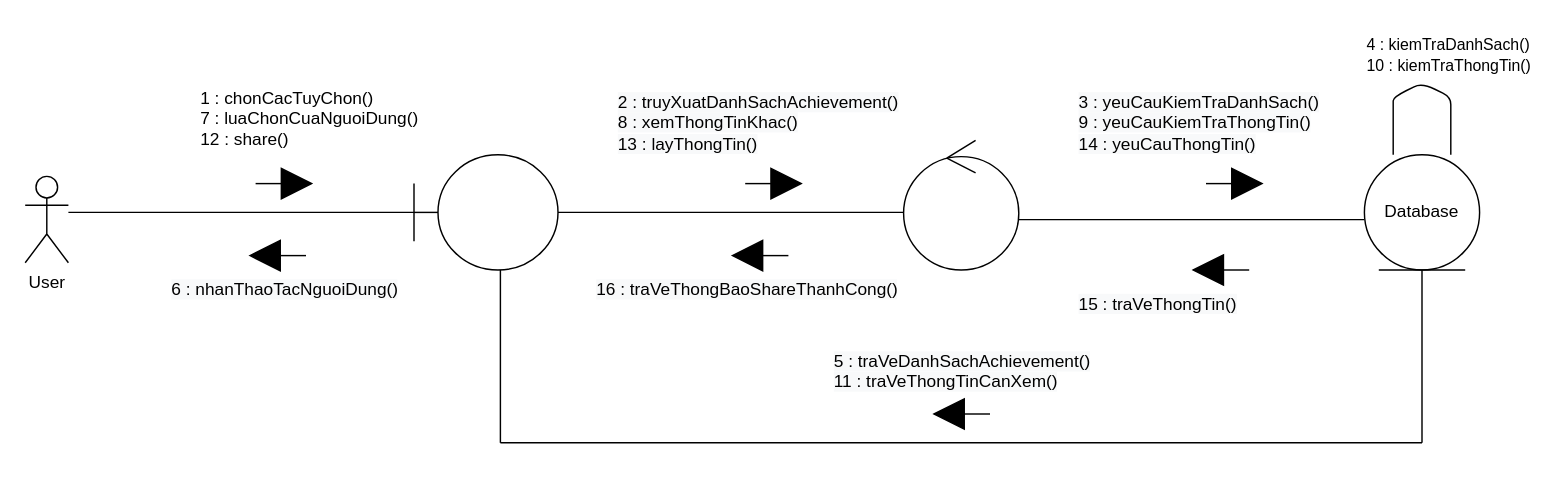
Some shapes in this 1562 by 482 pixel diagram are drawn without their labels. Each missing label, with the centre of its shape:
Màn hình: the point at 485,211
Tài khoản: the point at 960,204
